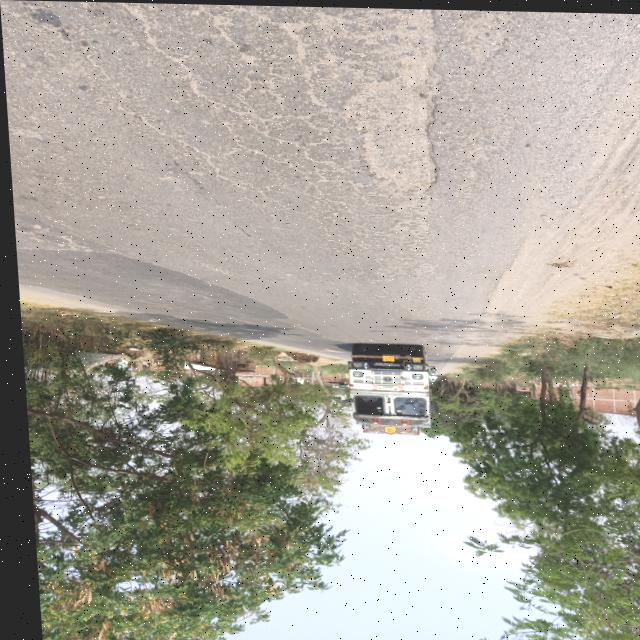plate: (377, 354, 390, 360)
